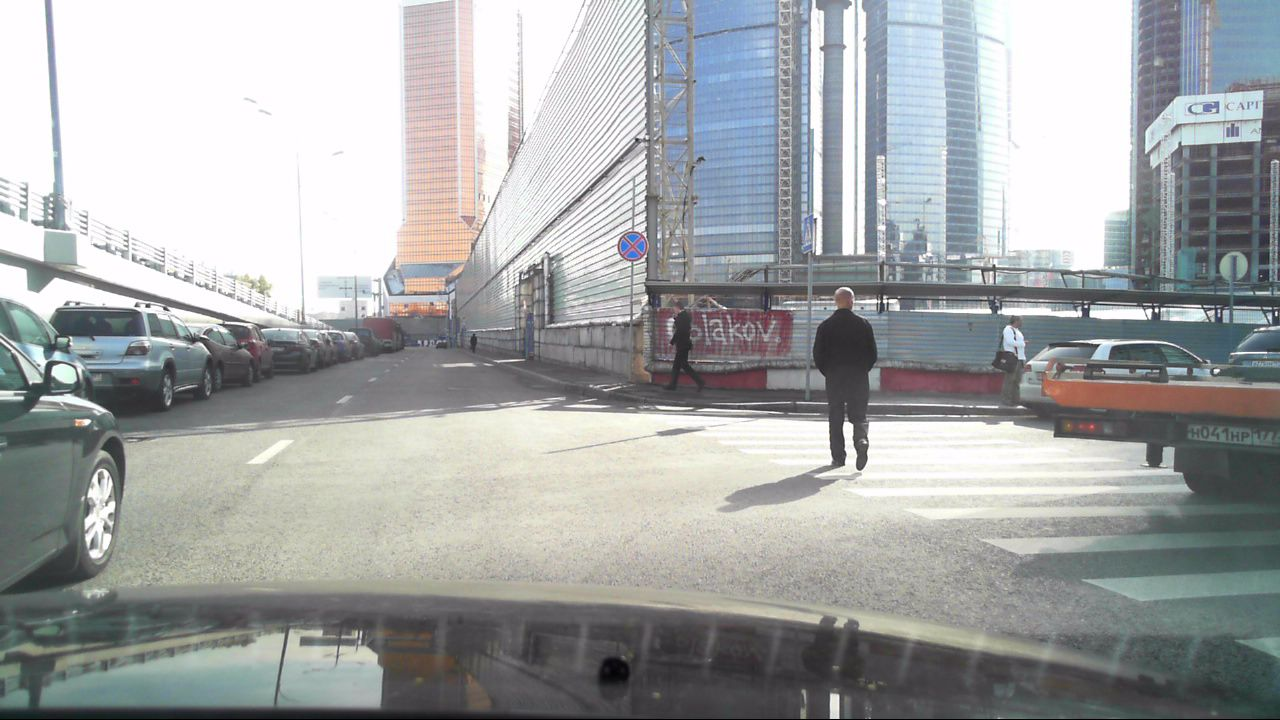No Parking: (620, 232, 650, 262)
